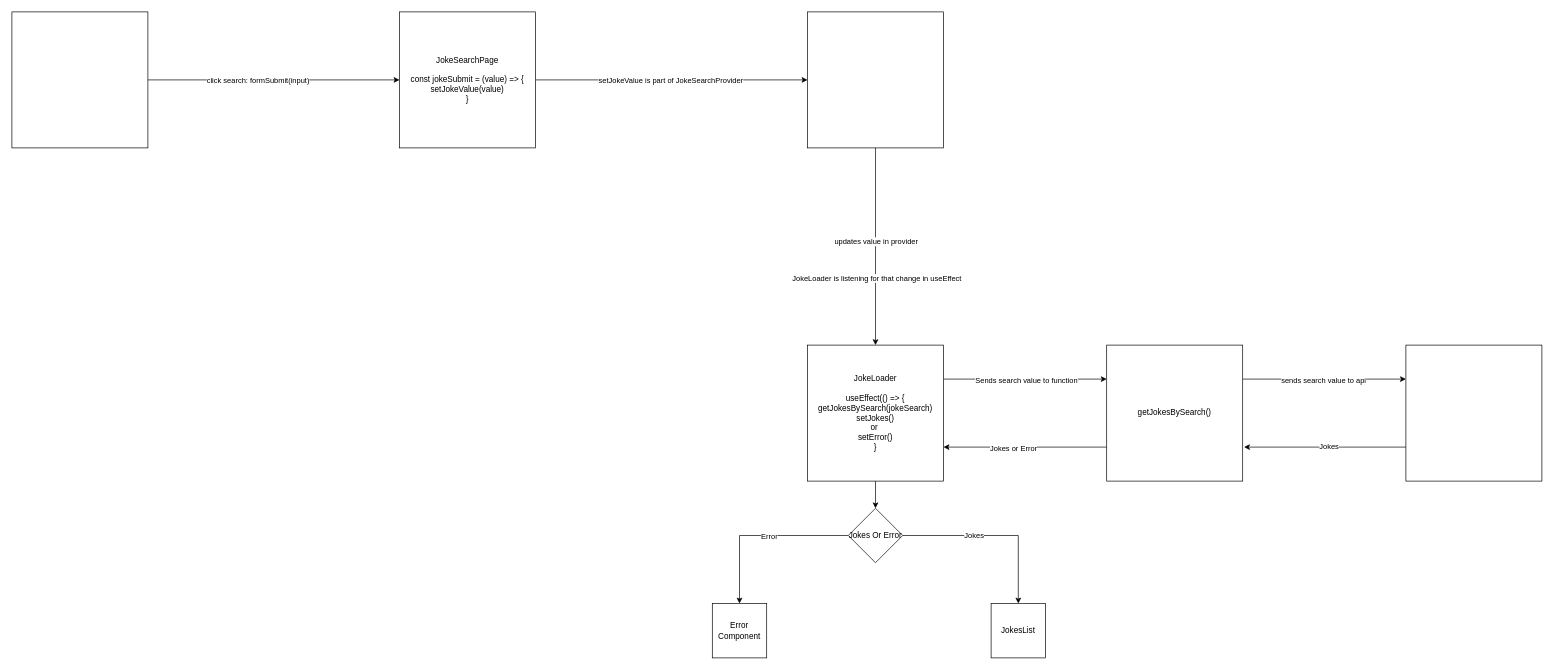
This 1554x670 diagram has some shape labels left out. The shapes that lost their labels are listed below. From the top down, each one's centre as x and y in pixels, then its label:
point (79, 79): SearchBar const [input, setInput] = useState("")
point (875, 79): JokeSearchProvider const [jokeSearch, setJokeSearch) = useState('')
point (1473, 412): Icanhazdadjokes.com
